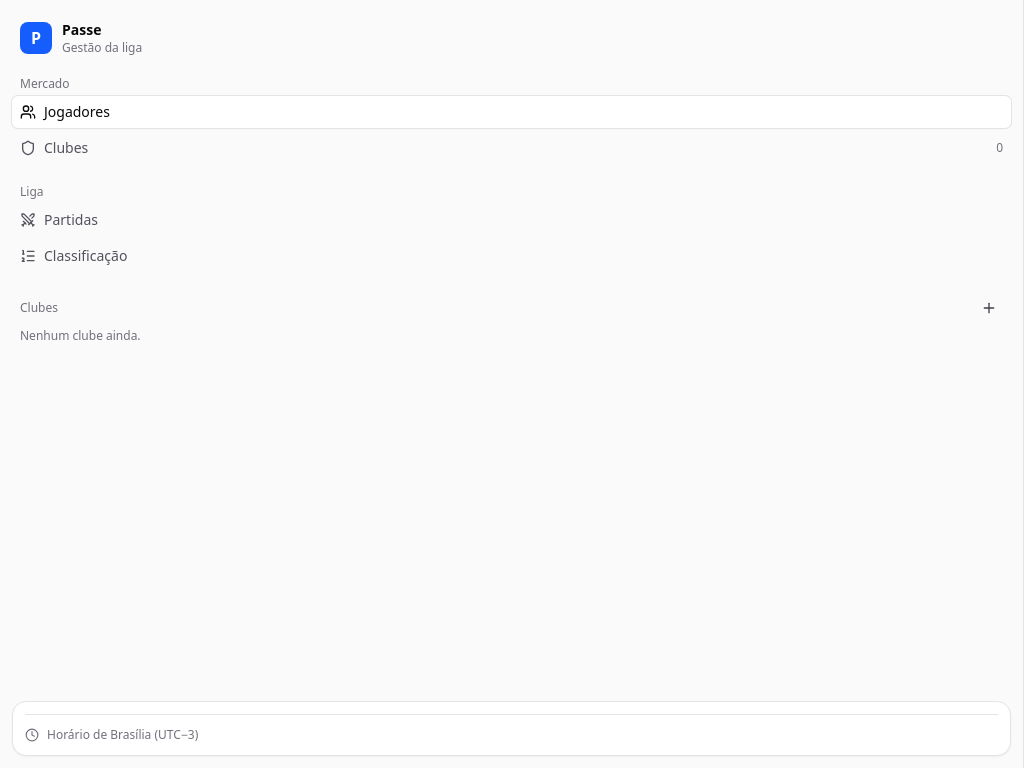
Sidebar › o botão + abre o formulário de novo clube
This screenshot has width=1024, height=768.
Check: the text "Nenhum clube ainda." is shown, box [20, 327, 141, 344]
Click the button named "Adicionar clube": (989, 308) [975, 292, 1003, 324]
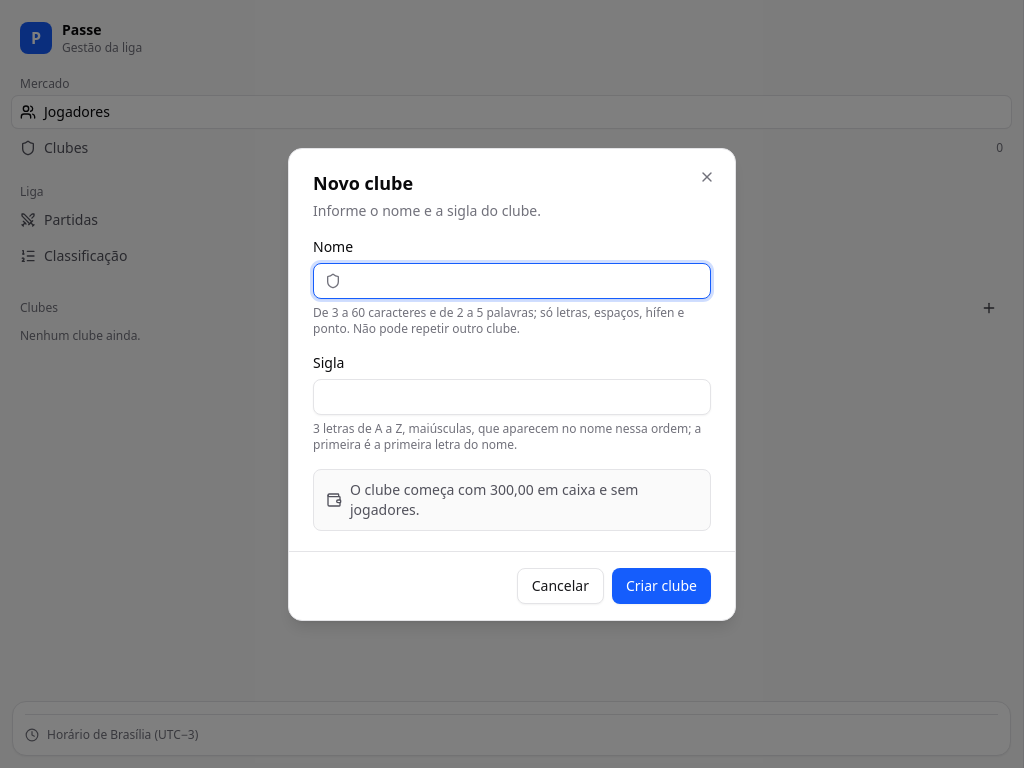
Check: the dialog "Novo clube" is shown, box [288, 148, 736, 620]
